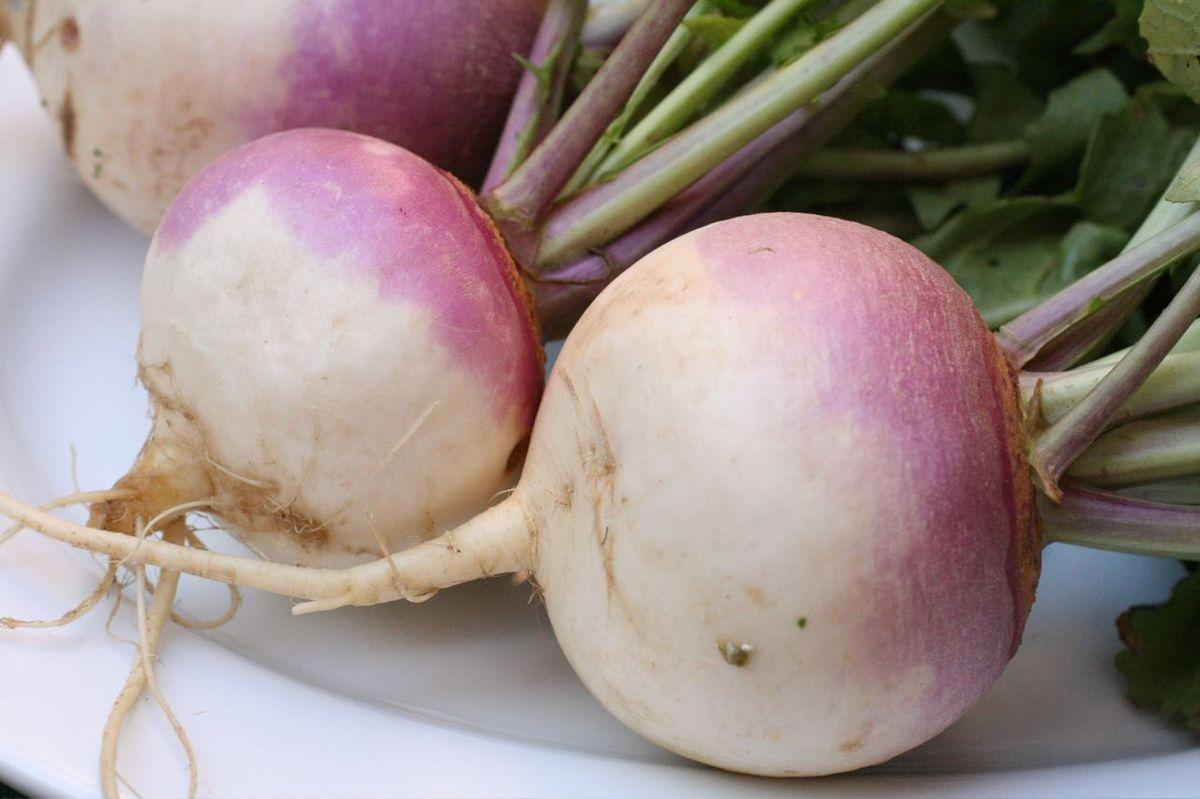tomato: (87, 124, 548, 578)
turnip: (476, 0, 970, 337)
